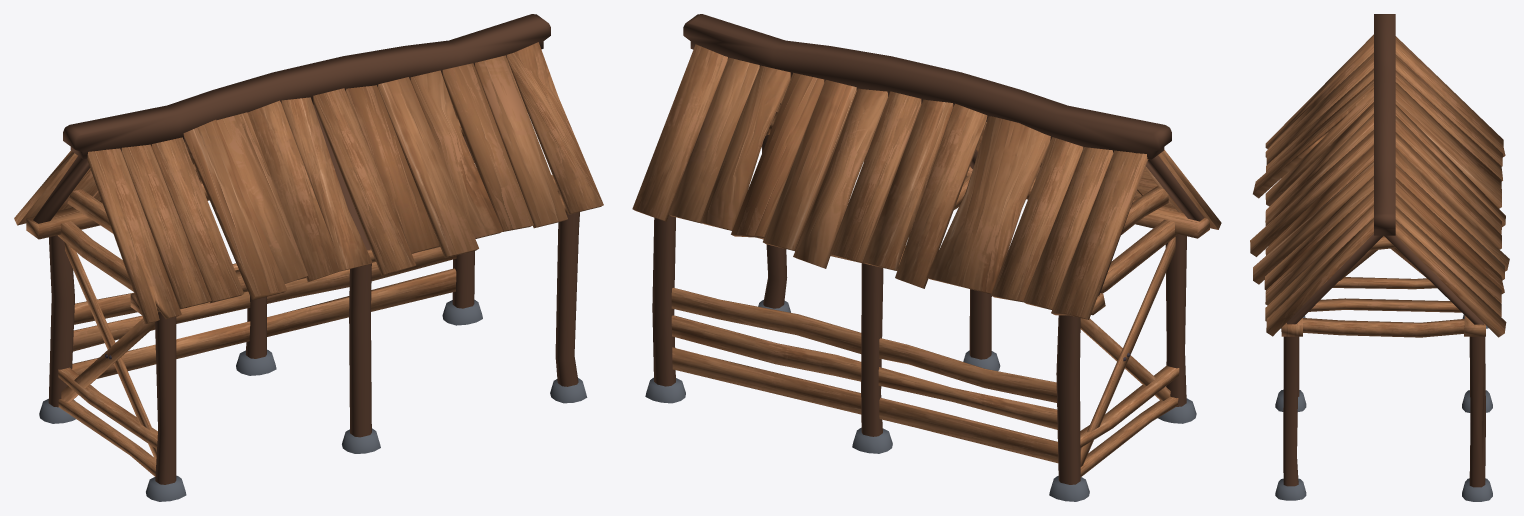
The model's file is Barn_1.fbx.
3 renders of one model, left to right at view 1: azimuth 30°, elevation 25°; view 2: azimuth 150°, elevation 25°; view 3: azimuth 270°, elevation 25°, orthographic. The views are drawn at different scales.
Visible parts, largest first — view 1: Barn_1.002; view 2: Barn_1.002; view 3: Barn_1.002.
Boxes of the visible parts, box(x1,y1,x2,y2) form: Barn_1.002: box(14, 14, 603, 501); Barn_1.002: box(632, 14, 1221, 501); Barn_1.002: box(1250, 14, 1509, 501).
Bounding box in the file's own units: 6.06 × 4.1 × 3.27.
